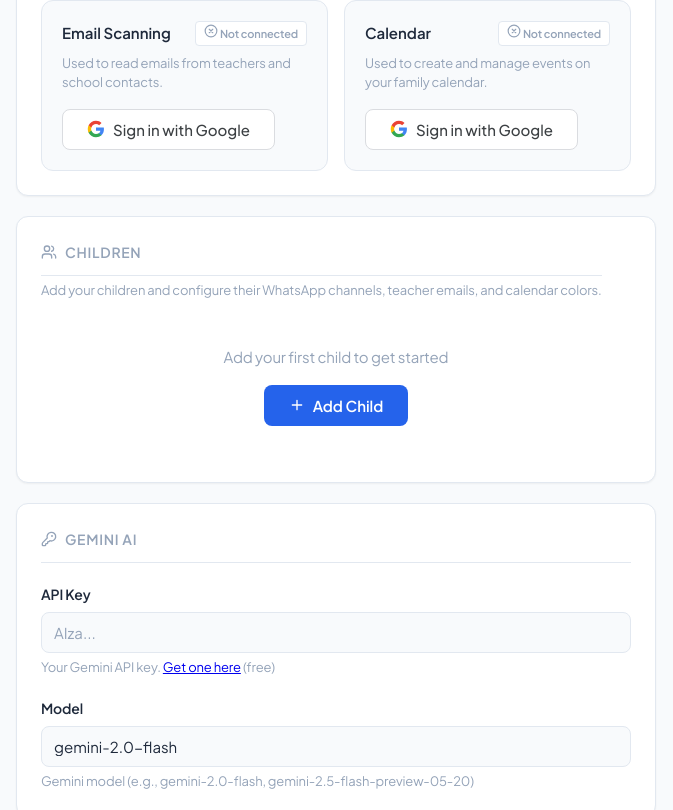
it: SettingsPage › Children section › adds a new child
(page scrolled)
Expected: the text "Add your first child to get started" is shown, [224,347,448,366]
Click the button "Add Child" at (336, 405), box [264,385,408,426]
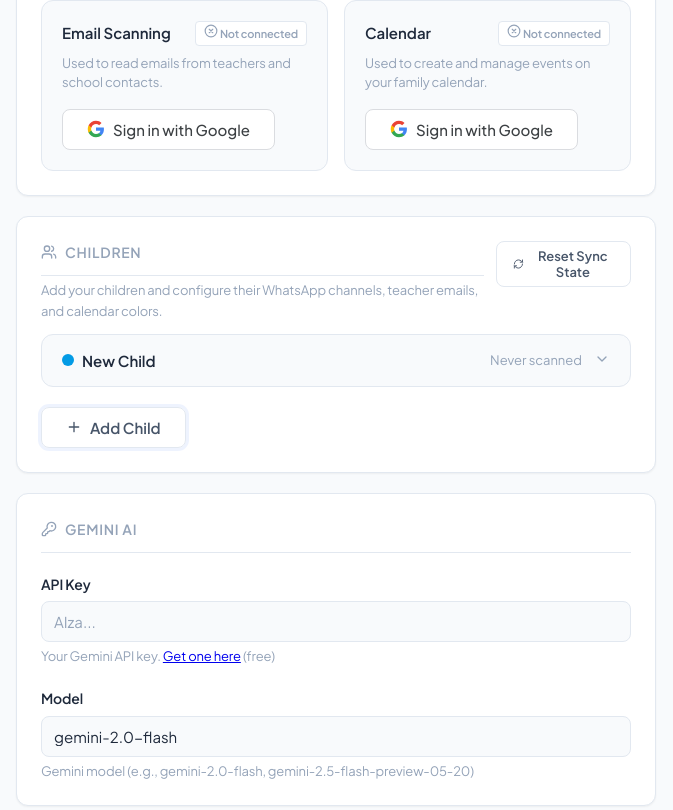
Now the text "New Child" is shown, box [82,351,156,370]
